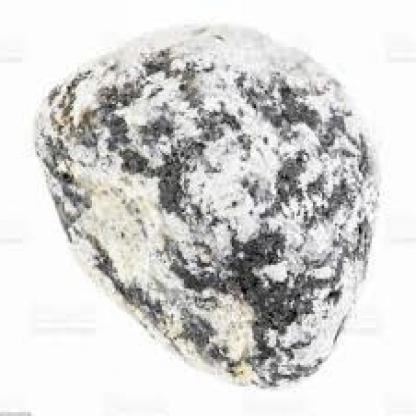Igneous_Diorite: (22, 17, 387, 390)
